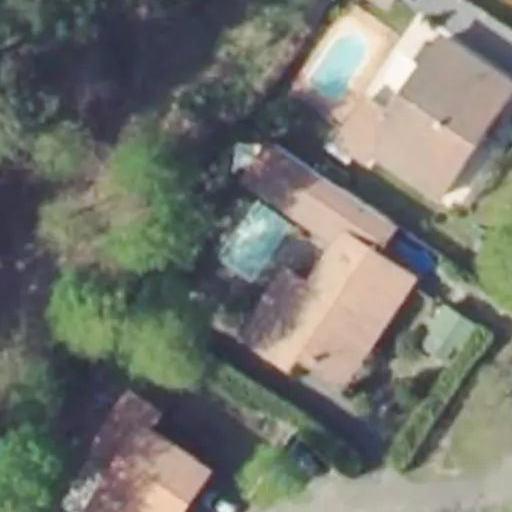pool: (217, 198, 286, 288), (313, 25, 365, 109)
